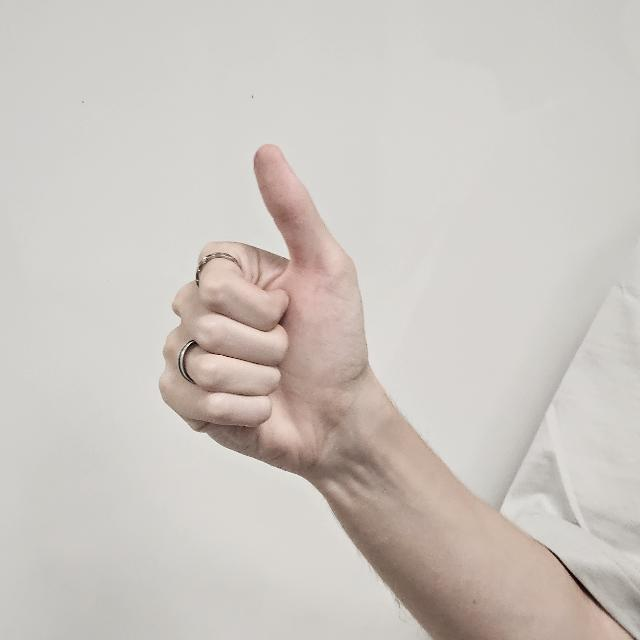Start: (152, 146, 398, 504)
